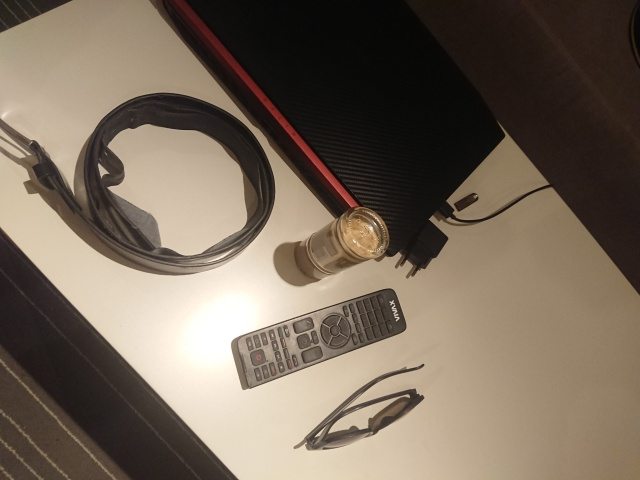Kotanyi Garlic Granules 70g: (292, 204, 392, 284)
